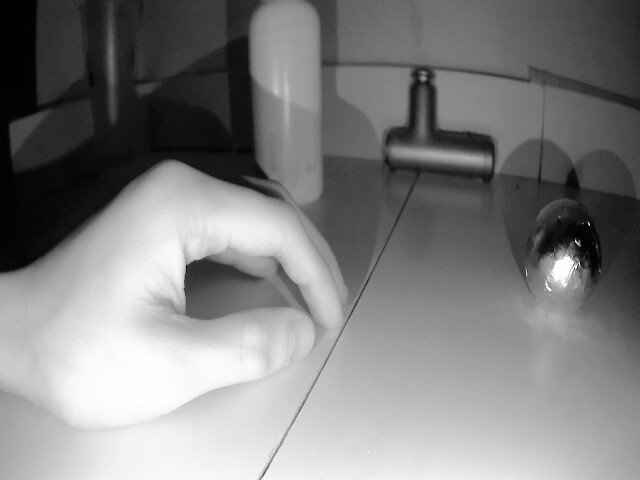silver: (518, 195, 609, 309)
